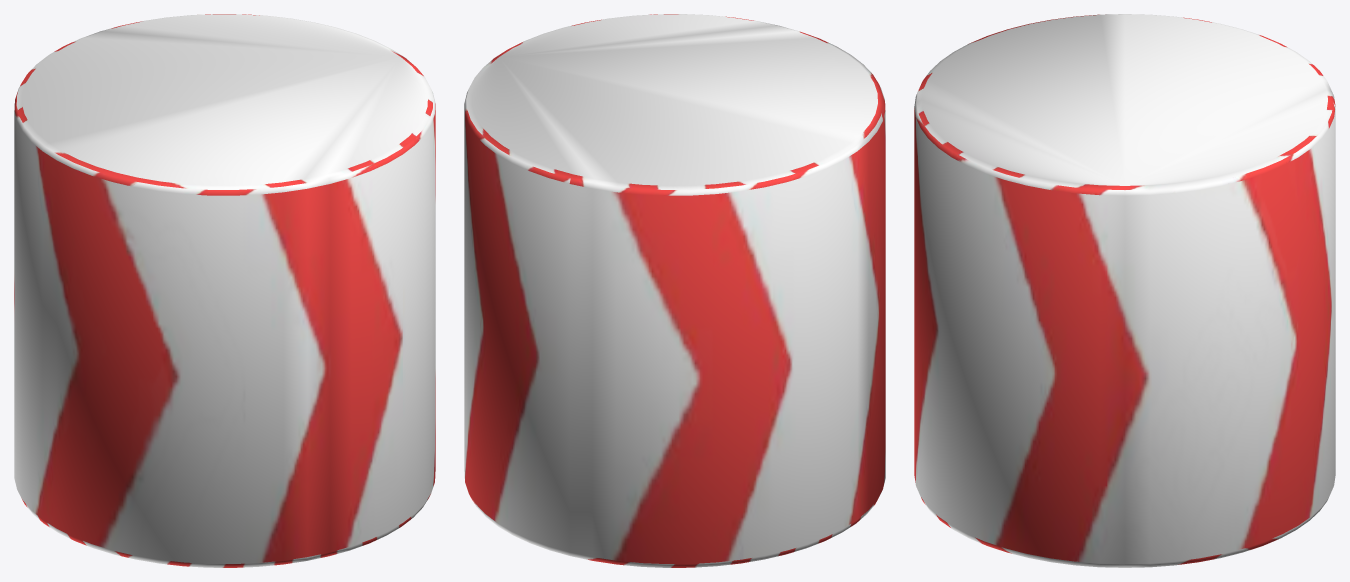
The model's file is HayBale.fbx.
3 views of the same model, side by side, from view 1: azimuth 30°, elevation 25°; view 2: azimuth 150°, elevation 25°; view 3: azimuth 270°, elevation 25° (orthographic).
Parts seen in each view (by area): view 1: Cube; view 2: Cube; view 3: Cube.
Boxes of the visible parts, bbox=[...] form: Cube: bbox=[14, 14, 435, 567]; Cube: bbox=[464, 14, 885, 567]; Cube: bbox=[914, 14, 1335, 567].
Bounding box in the file's own units: 200 × 200 × 200.
